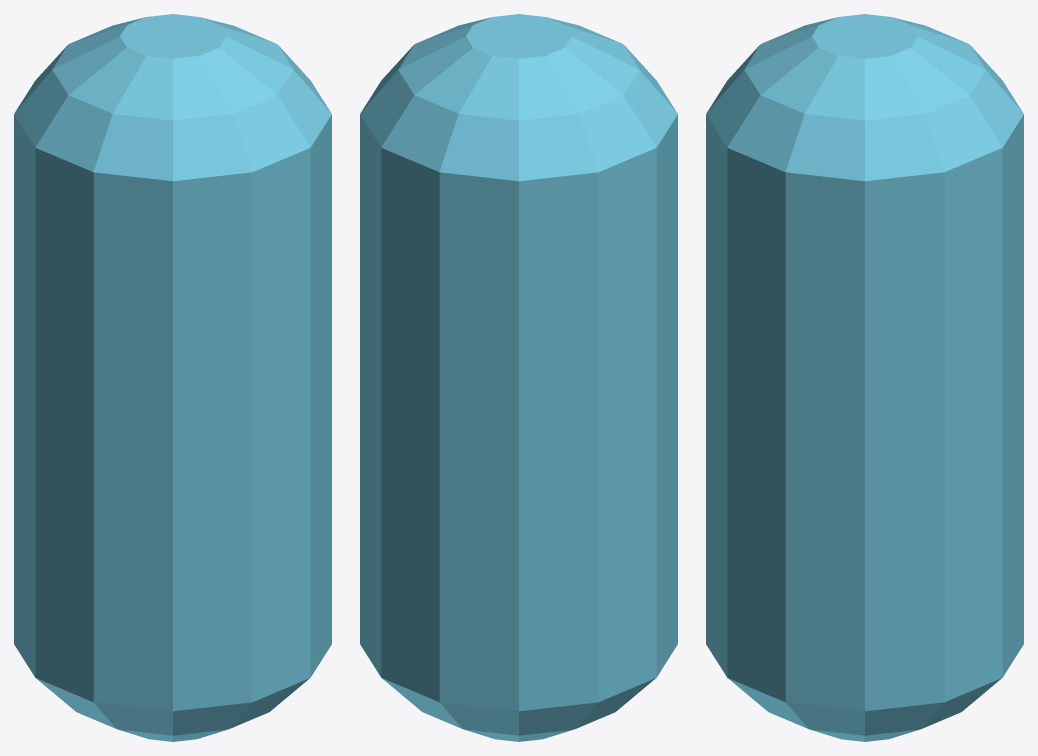
The picture shows the model from 3 angles, left to right: view 1: azimuth 30°, elevation 25°; view 2: azimuth 150°, elevation 25°; view 3: azimuth 270°, elevation 25°; orthographic projection.
Parts seen in each view (by area): view 1: polySurface3; view 2: polySurface3; view 3: polySurface3.
Boxes of the visible parts, x1,y1,x2,y2 form: polySurface3: (14,14,331,741); polySurface3: (360,14,677,741); polySurface3: (706,14,1023,741).
Bounding box in the file's own units: 9.14 × 21.74 × 9.14.
